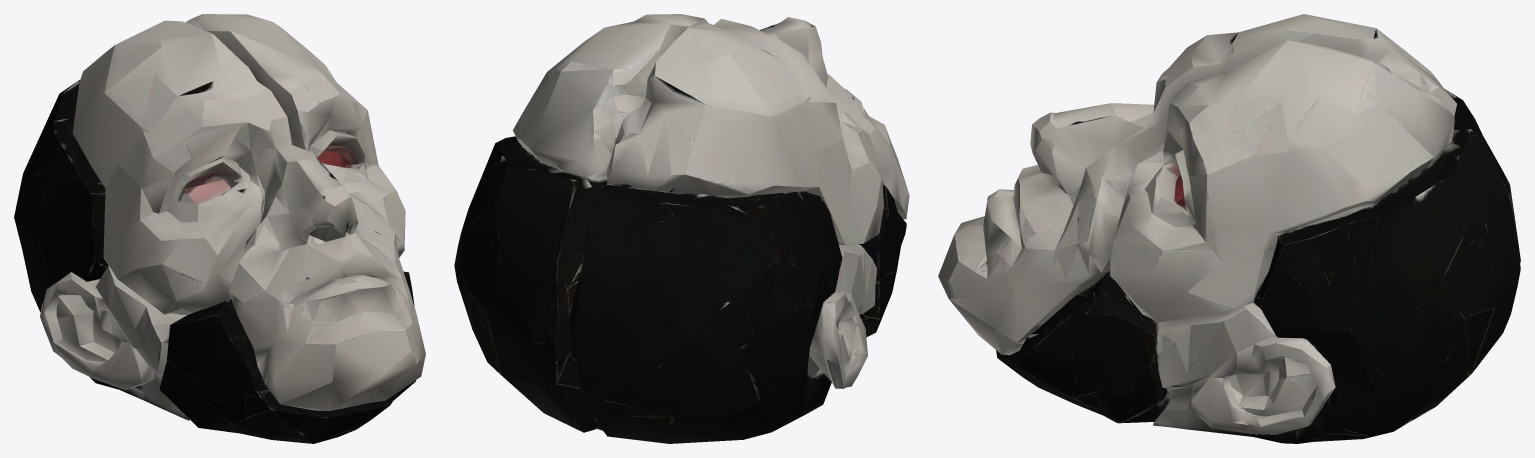
Rendered from colossus.glb.
The picture shows the model from 3 angles, left to right: view 1: azimuth 30°, elevation 25°; view 2: azimuth 150°, elevation 25°; view 3: azimuth 270°, elevation 25°; orthographic projection. The views are drawn at different scales.
Visible parts, largest first — view 1: mesh_node; view 2: mesh_node; view 3: mesh_node.
Part boxes in pixels (bbox=[...]): mesh_node: bbox=[14, 14, 425, 443]; mesh_node: bbox=[454, 14, 909, 443]; mesh_node: bbox=[938, 14, 1520, 443].
Bounding box in the file's own units: 1.33 × 1.24 × 1.9.
1 material, 1 textured.
